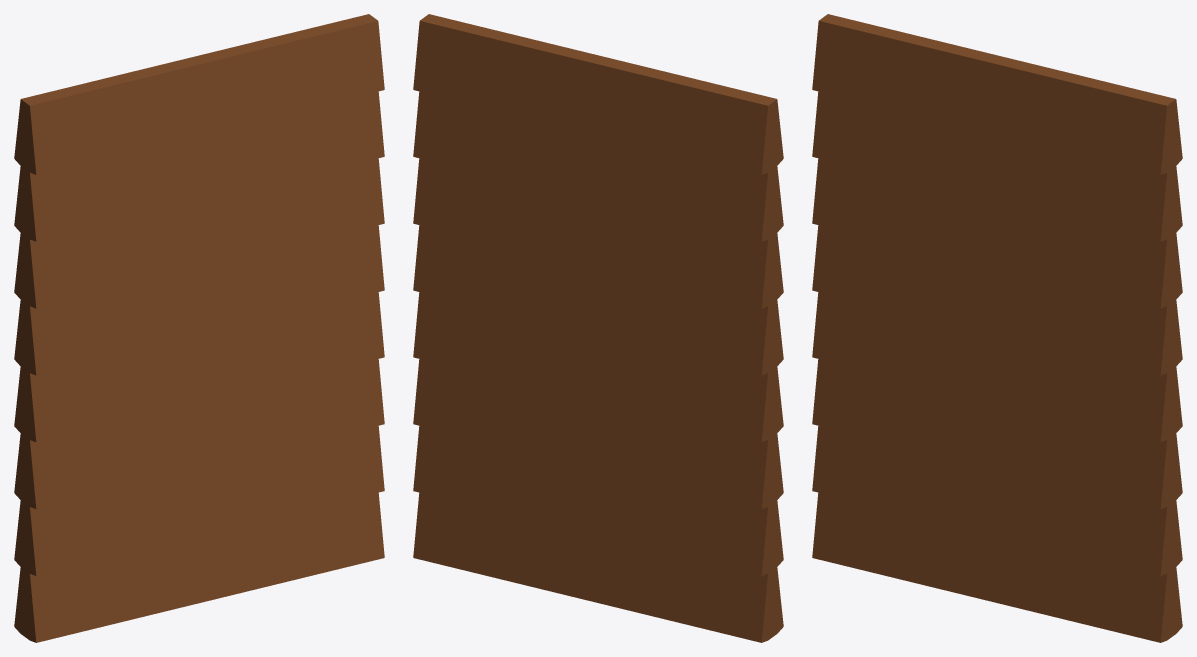
Rendered from ww_small_wall_a.glb.
3 views of the same model, side by side, from view 1: azimuth 30°, elevation 25°; view 2: azimuth 150°, elevation 25°; view 3: azimuth 330°, elevation 25° (orthographic).
Parts seen in each view (by area): view 1: Small_Wall_A; view 2: Small_Wall_A; view 3: Small_Wall_A.
Part boxes in pixels (bbox=[...]): Small_Wall_A: bbox=[14, 14, 384, 642]; Small_Wall_A: bbox=[413, 14, 783, 642]; Small_Wall_A: bbox=[812, 14, 1182, 642].
Bounding box in the file's own units: 2.4 × 3.52 × 0.2638.
